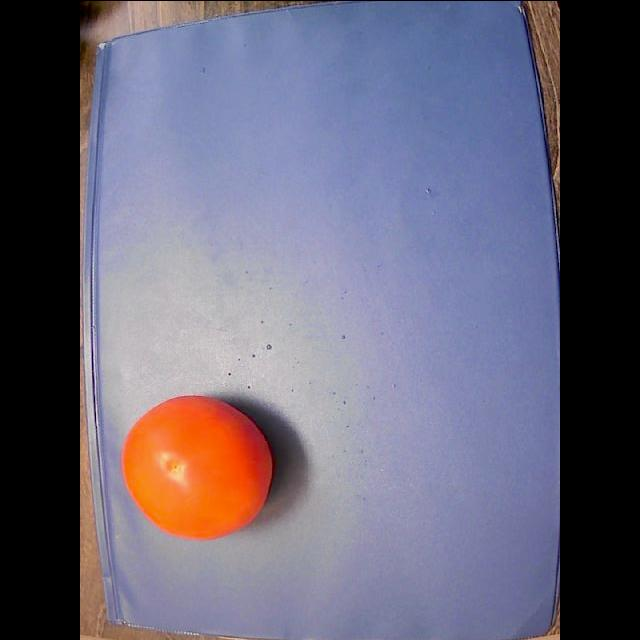tomate: (122, 396, 271, 539)
